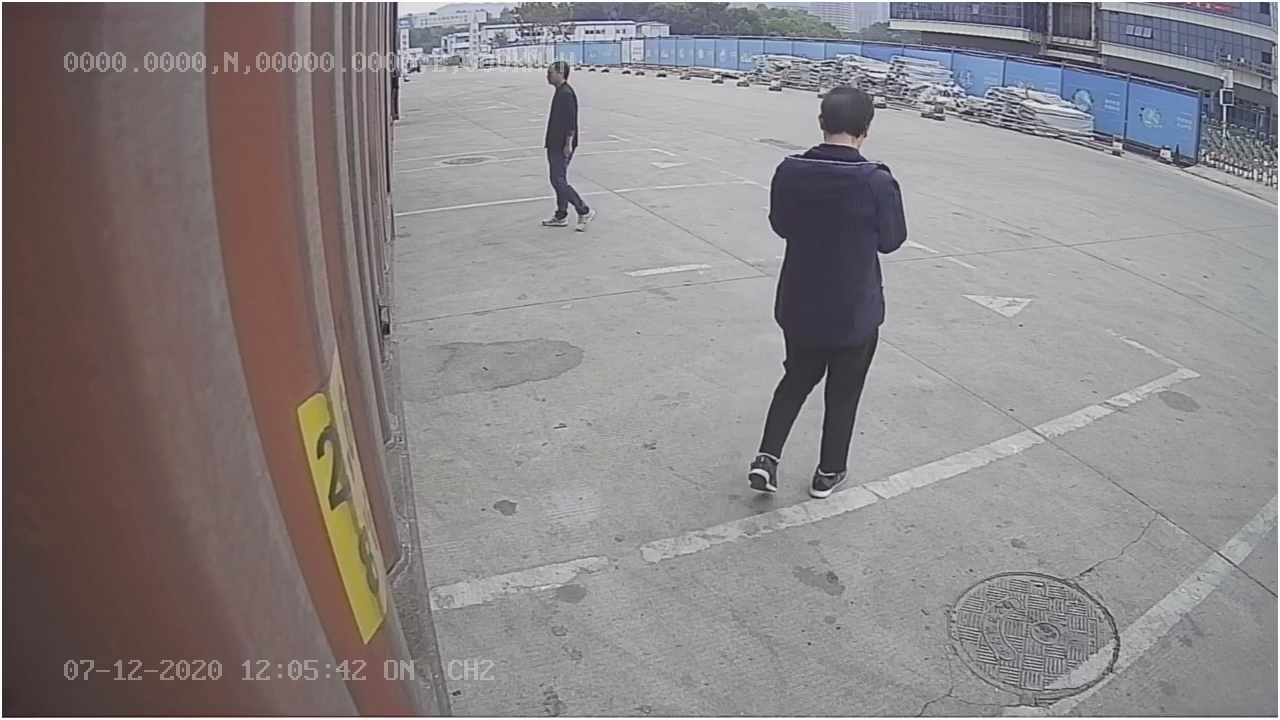person: (747, 75, 914, 496)
